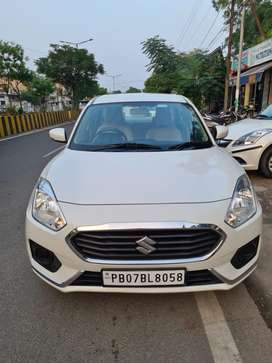PB07BL8058: (103, 270, 184, 285)
